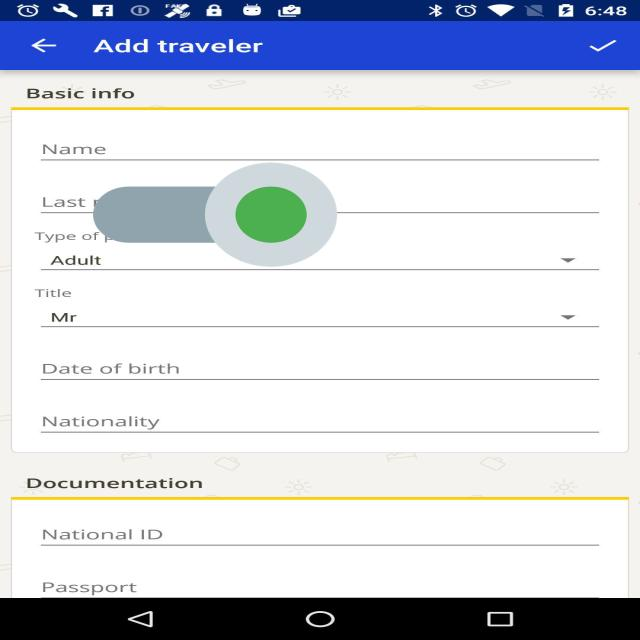social proof: (93, 118, 337, 311)
